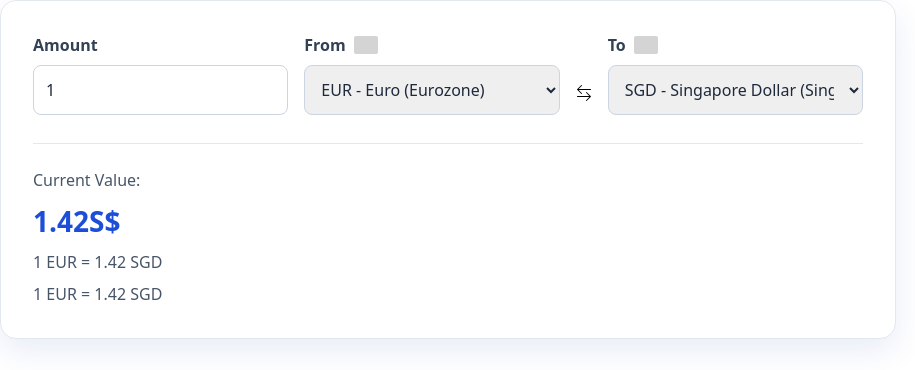
Test: currency conversion with the API › From is EUR › converts EUR to SGD and swaps the currencies
Expected: the dropdown labelled "From" shows "EUR - Euro (Eurozone)", x1=304 y1=65 x2=560 y2=115
Expected: the dropdown labelled "To" shows "SGD - Singapore Dollar (Singapore)", x1=608 y1=65 x2=863 y2=115
# Swap the selected currencies and check the reverse conversion.
Click the button named "swap currencies". click: (584, 91)
box: x1=576 y1=79 x2=592 y2=103
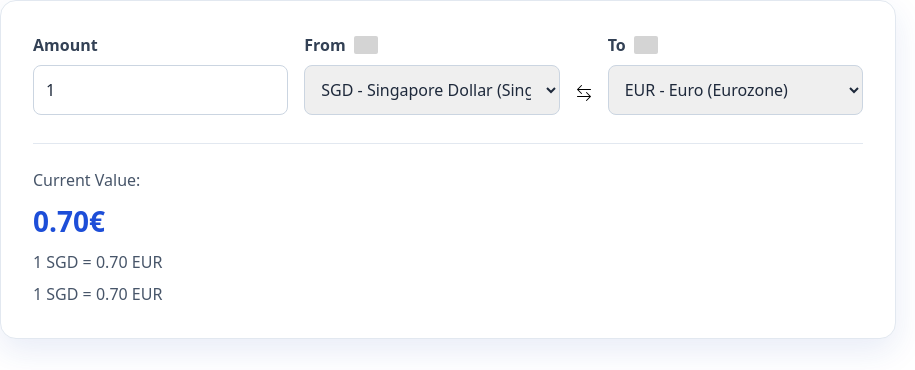
Now the 1st text "1 SGD = 0.70 EUR" is shown, box x1=33 y1=251 x2=162 y2=273
Now the dropdown labelled "From" shows "SGD - Singapore Dollar (Singapore)", box x1=304 y1=65 x2=560 y2=115
Now the dropdown labelled "To" shows "EUR - Euro (Eurozone)", box x1=608 y1=65 x2=863 y2=115
